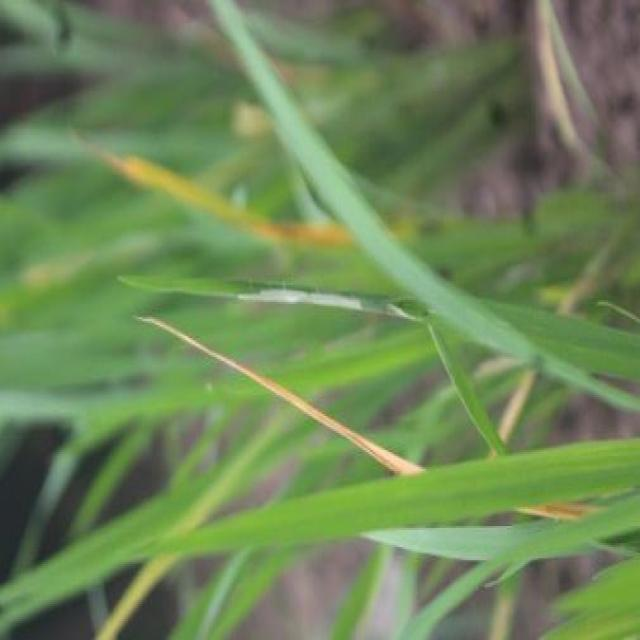Tungro: (154, 308, 443, 484), (124, 135, 346, 257), (511, 471, 587, 536)
